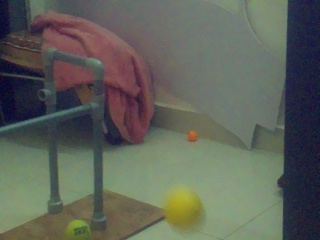ball: (163, 186, 203, 228)
